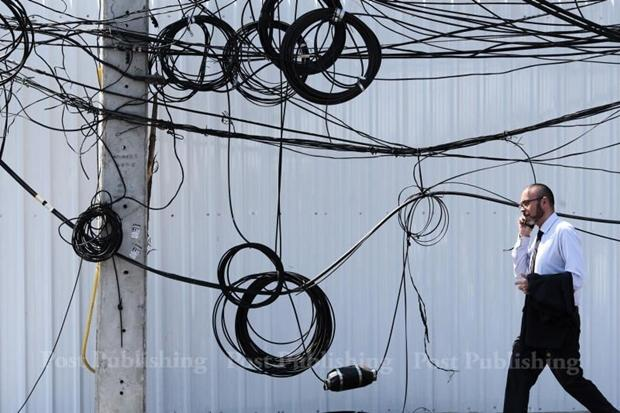wires-only: (0, 157, 522, 384), (0, 0, 619, 129)
